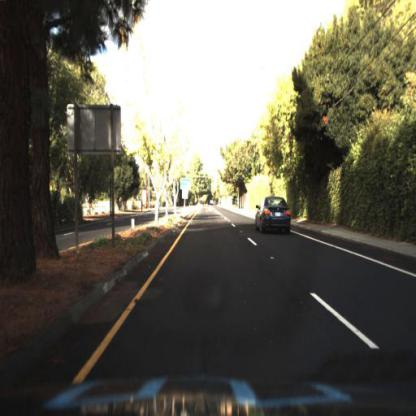car: (254, 194, 291, 235)
